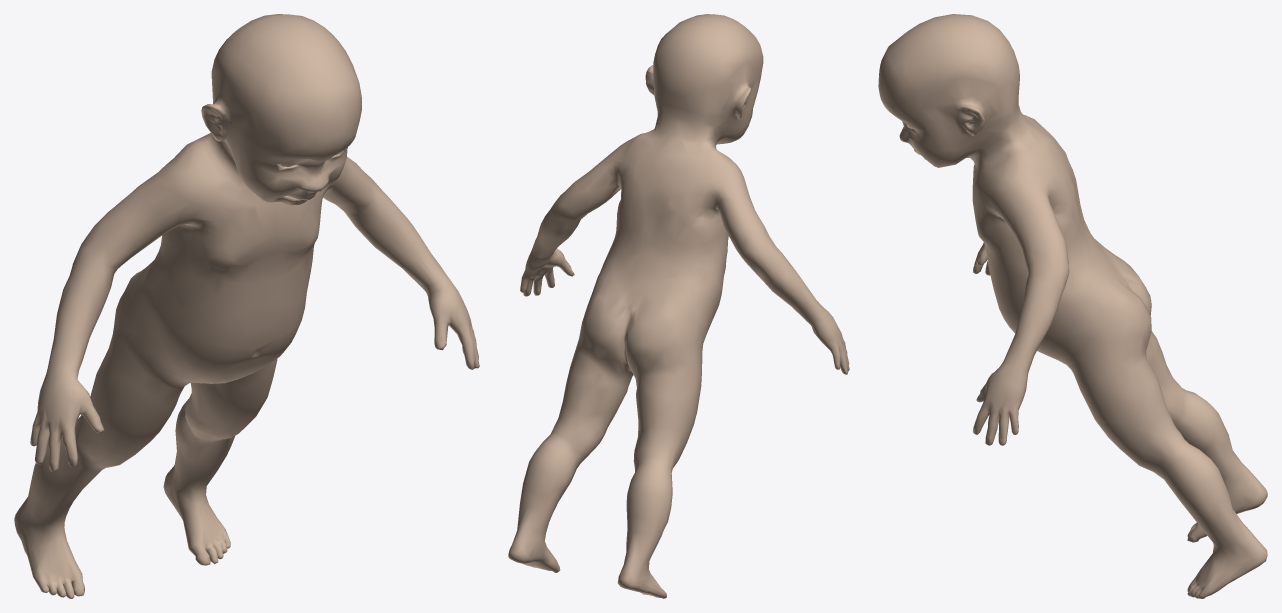
The model's file is baby2.dae.
3 renders of one model, left to right at view 1: azimuth 30°, elevation 25°; view 2: azimuth 150°, elevation 25°; view 3: azimuth 270°, elevation 25°, orthographic. The views are drawn at different scales.
Visible parts, largest first — view 1: Baby_Body; view 2: Baby_Body; view 3: Baby_Body.
Boxes of the visible parts, x1,y1,x2,y2 form: Baby_Body: (14,14,479,598); Baby_Body: (508,14,849,598); Baby_Body: (878,14,1267,598).
Bounding box in the file's own units: 3.87 × 3.58 × 5.56.
